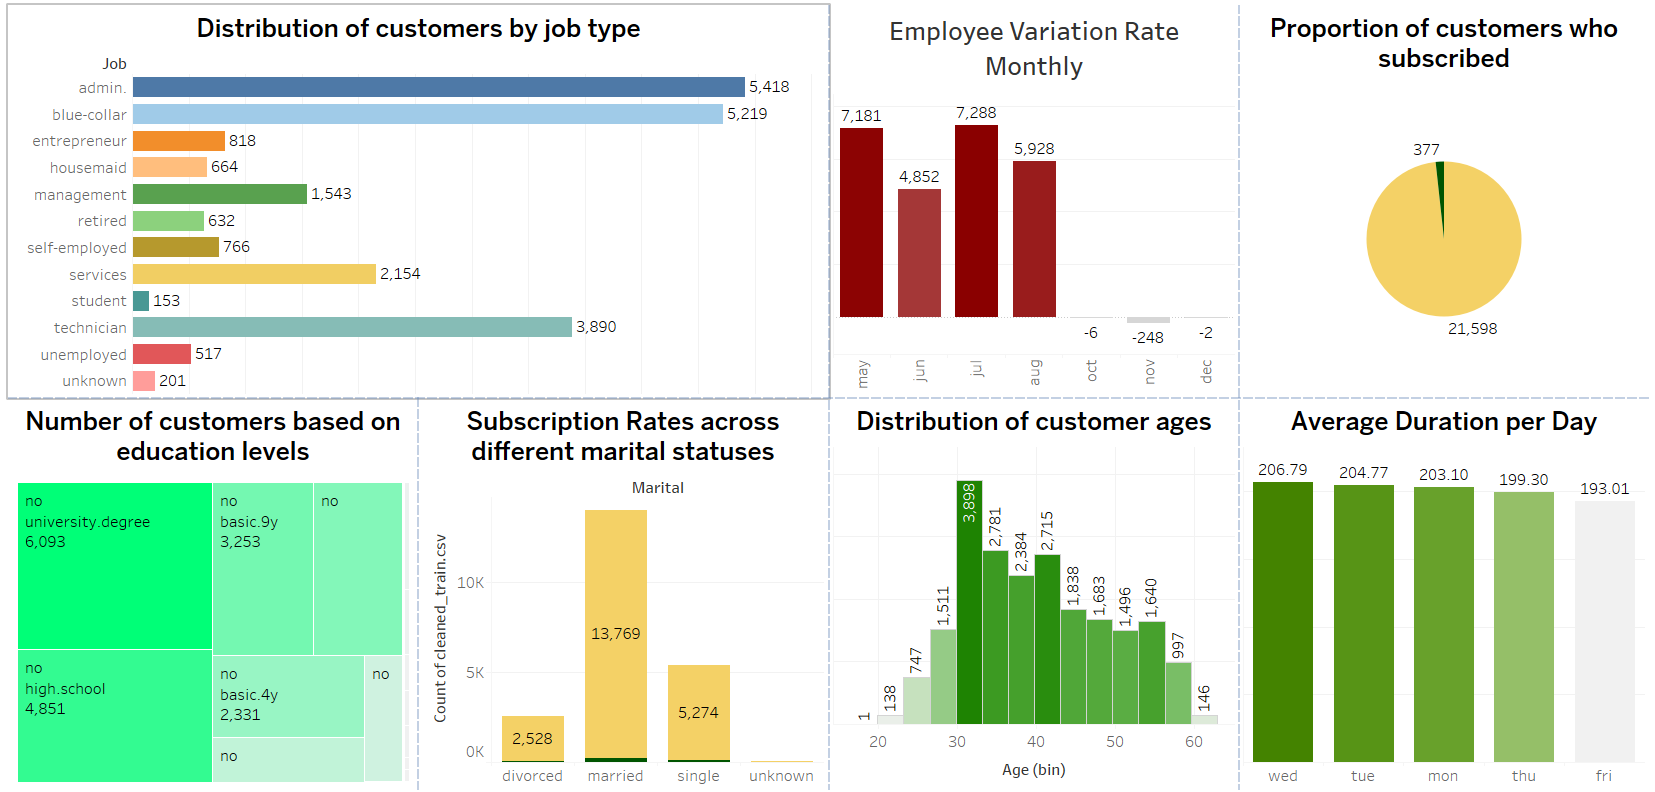

What the dashboard file says about the page in this screenshot:
{"tool":"tableau","page":{"name":"Dashboard 1","canvas":[1000,1000],"units":"permille","ordinal":0},"visuals":[{"type":"worksheet","title":"Sheet 1","mark":"Automatic","rows":["job"],"cols":["cleaned_train.csv_F4D0114264144E71A297F6A8E0D6DCD4"],"box":[4.8,10,495.2,490]},{"type":"worksheet","title":"Sheet 5","mark":"Automatic","rows":["emp.var.rate"],"cols":["month"],"box":[500,10,247.6,490]},{"type":"worksheet","title":"Sheet 2","mark":"Pie","box":[747.6,10,247.6,490]},{"type":"worksheet","title":"Sheet 7","mark":"Automatic","box":[4.8,500,247.6,490]},{"type":"worksheet","title":"Sheet 6","mark":"Automatic","rows":["cleaned_train.csv_F4D0114264144E71A297F6A8E0D6DCD4"],"cols":["marital"],"box":[252.4,500,247.6,490]},{"type":"worksheet","title":"Sheet 3","mark":"Automatic","rows":["age"],"cols":["Age (bin)"],"box":[500,500,247.6,490]},{"type":"worksheet","title":"Sheet 4","mark":"Automatic","rows":["duration"],"cols":["day_of_week"],"box":[747.6,500,247.6,490]}]}

Visuals, with their boxes on the dashboard's canvas, which has no fixed pixel size, in thousandths of its width and height (x1, y1, x2, y2). These are canvas units, not pixel positions in the 1655x792 screenshot, which may show the page scaled, cropped or inside an application window:
"Sheet 1" worksheet: (x1=5, y1=10, x2=500, y2=500)
"Sheet 5" worksheet: (x1=500, y1=10, x2=748, y2=500)
"Sheet 2" worksheet (Pie marks): (x1=748, y1=10, x2=995, y2=500)
"Sheet 7" worksheet: (x1=5, y1=500, x2=252, y2=990)
"Sheet 6" worksheet: (x1=252, y1=500, x2=500, y2=990)
"Sheet 3" worksheet: (x1=500, y1=500, x2=748, y2=990)
"Sheet 4" worksheet: (x1=748, y1=500, x2=995, y2=990)
